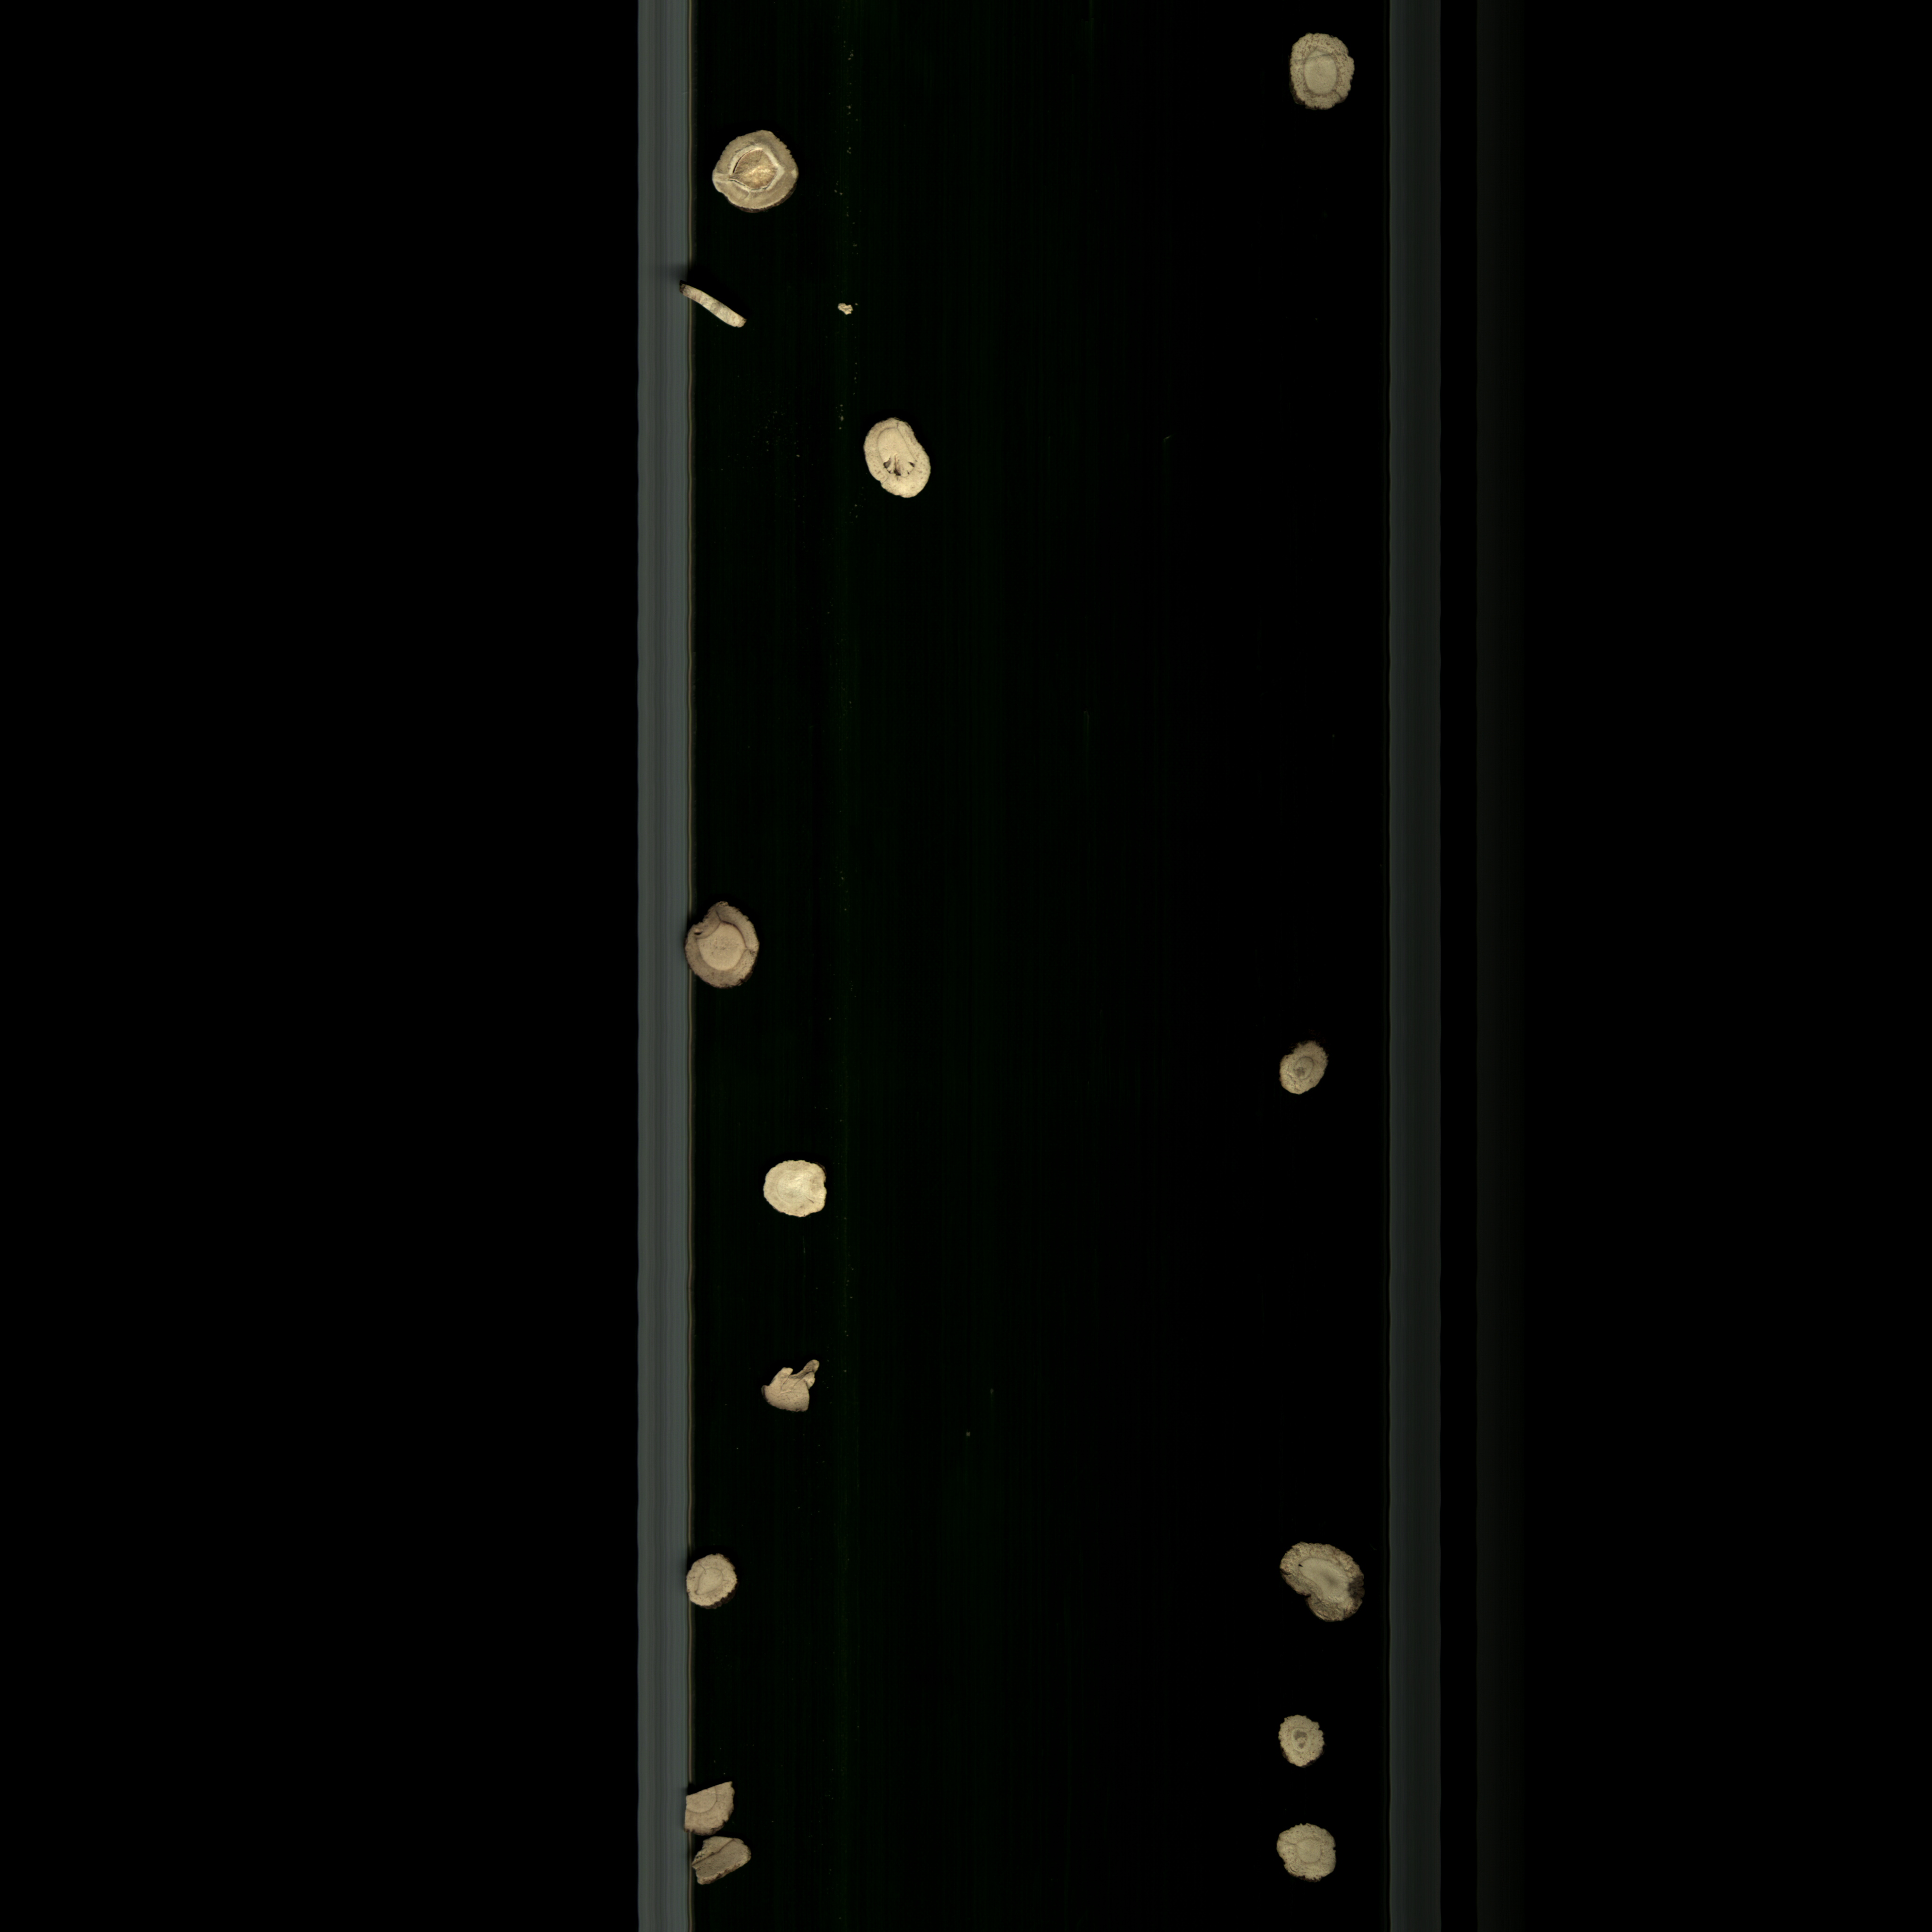debris: (755, 1350, 833, 1426), (672, 272, 755, 340), (674, 1771, 748, 1838), (699, 1833, 755, 1897)
dreg: (833, 297, 863, 322)
hole: (855, 414, 948, 513)
moldy: (702, 126, 807, 219), (1276, 1537, 1373, 1635), (683, 897, 773, 994), (1279, 25, 1362, 120), (1276, 1033, 1346, 1108), (1270, 1707, 1334, 1775)
